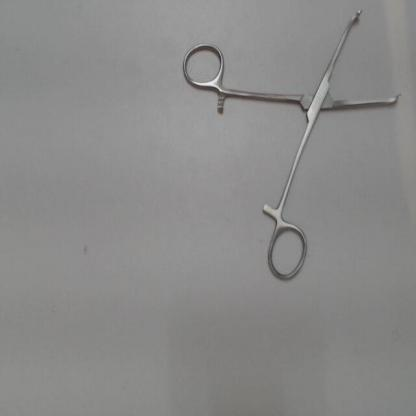Allis Tissue Forceps: (174, 0, 411, 289)
